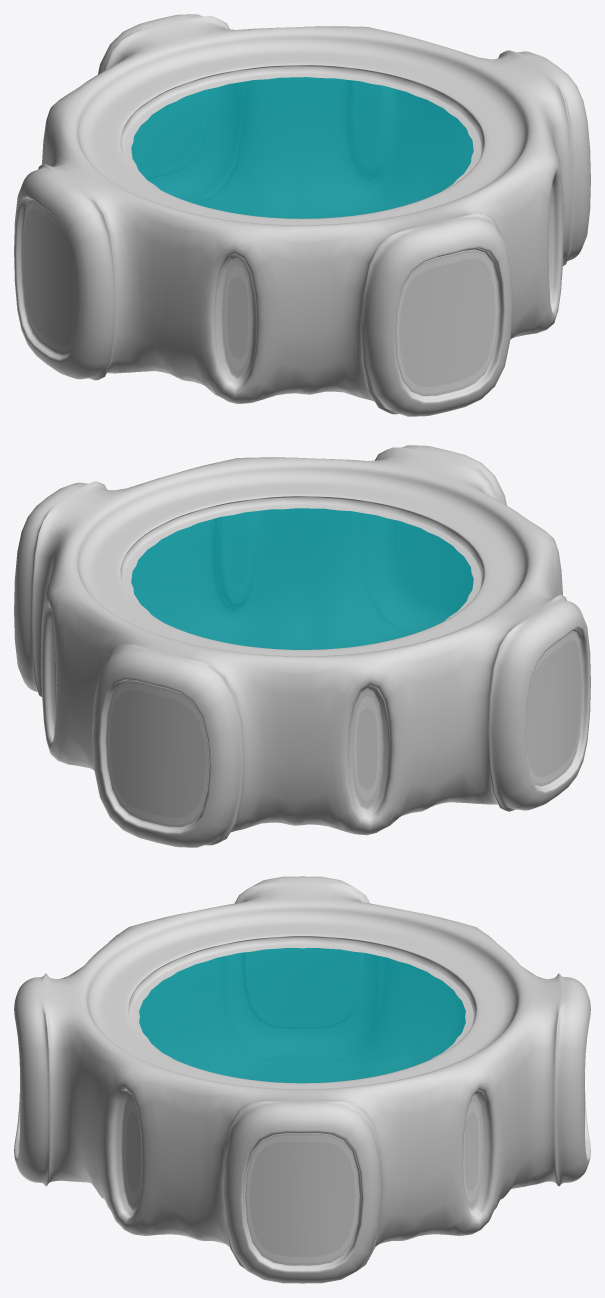
The model's file is Projector.fbx.
3 renders of one model, top to bottom at view 1: azimuth 30°, elevation 25°; view 2: azimuth 150°, elevation 25°; view 3: azimuth 270°, elevation 25°, orthographic. The views are drawn at different scales.
Parts seen in each view (by area): view 1: High_Poly; view 2: High_Poly; view 3: High_Poly.
Part boxes in pixels (x1,y1,x2,y2): High_Poly: [14, 14, 590, 416]; High_Poly: [14, 445, 590, 847]; High_Poly: [14, 876, 590, 1283].
Bounding box in the file's own units: 10.27 × 3.48 × 10.27.
